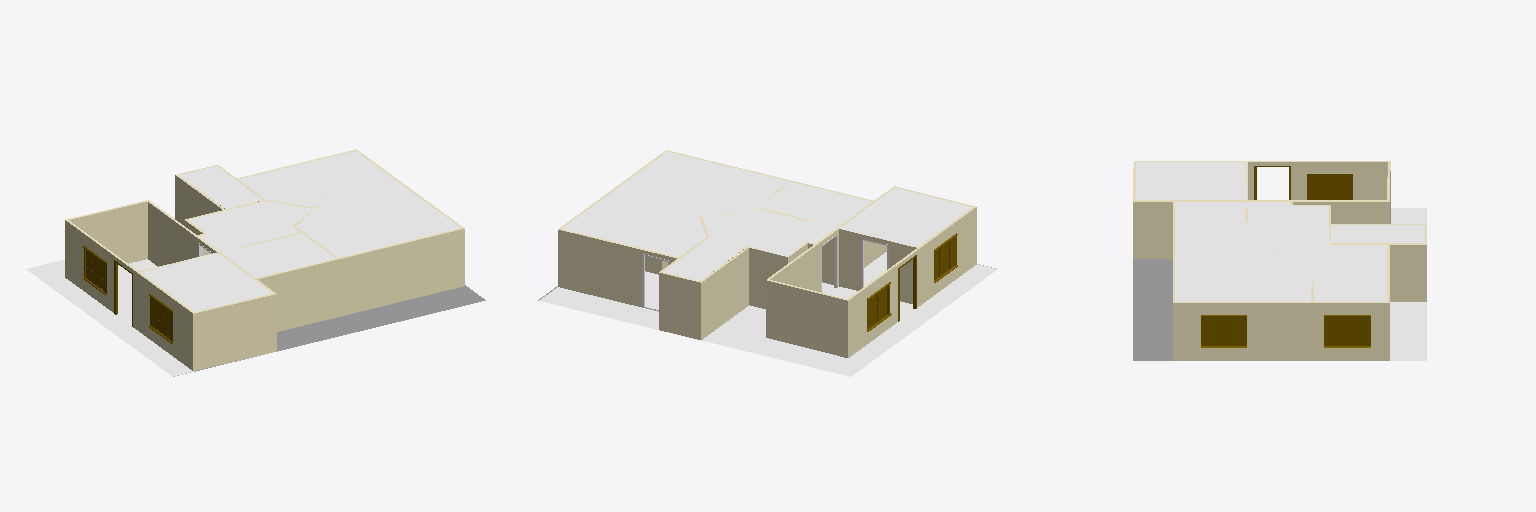
Rendered from ausilioteca_export.obj.
3 renders of one model, left to right at view 1: azimuth 30°, elevation 25°; view 2: azimuth 150°, elevation 25°; view 3: azimuth 270°, elevation 25°, orthographic.
Parts seen in each view (by area): view 1: wall_8_46, room_32_170, wall_2_10, wall_3_16, room_35_176, room_30_166, ground_1, room_33_172, room_36_177, wall_1_5, room_31_168, wall_22_125 (+3 smaller); view 2: room_32_170, wall_12_70, wall_3_16, wall_1_4, room_35_176, room_30_166, room_33_172, room_37_178, room_36_177, wall_14_82, room_31_168, wall_15_88 (+5 smaller); view 3: room_32_170, wall_7_40, room_35_176, room_30_166, ground_1, room_33_172, wall_13_76, wall_3_17, room_31_168, wall_28_160, room_38_179, wall_16_94 (+2 smaller).
Part boxes in pixels (x1,y1,x2,y2): wall_8_46: (257, 229, 464, 331); room_32_170: (296, 178, 459, 257); wall_2_10: (193, 294, 276, 370); wall_3_16: (65, 220, 192, 370); room_35_176: (238, 151, 391, 206); room_30_166: (141, 253, 272, 311); ground_1: (174, 285, 485, 376); room_33_172: (189, 201, 310, 251); room_36_177: (26, 264, 193, 376); wall_1_5: (69, 202, 147, 265); room_31_168: (222, 233, 335, 277); wall_22_125: (148, 202, 194, 266); room_32_170: (599, 152, 790, 217); wall_12_70: (558, 230, 676, 306); wall_3_16: (848, 207, 976, 357); wall_1_4: (766, 280, 847, 357); room_35_176: (562, 202, 706, 256); room_30_166: (839, 188, 972, 247); room_33_172: (702, 208, 835, 256); room_37_178: (701, 305, 847, 371); room_36_177: (830, 264, 997, 376); wall_14_82: (701, 248, 748, 339); room_31_168: (758, 182, 871, 227); wall_15_88: (659, 273, 700, 339); room_32_170: (1175, 241, 1313, 301); wall_7_40: (1173, 303, 1313, 360); room_35_176: (1293, 245, 1386, 301); room_30_166: (1135, 162, 1246, 199); ground_1: (1133, 259, 1172, 360); room_33_172: (1247, 202, 1330, 257); wall_13_76: (1293, 303, 1389, 360); wall_3_17: (1248, 162, 1387, 199); room_31_168: (1175, 202, 1246, 240); wall_28_160: (1133, 202, 1172, 258); room_38_179: (1390, 302, 1426, 360); wall_16_94: (1390, 245, 1426, 301).
Size of the model in its own units: 1281 by 225 by 1044.